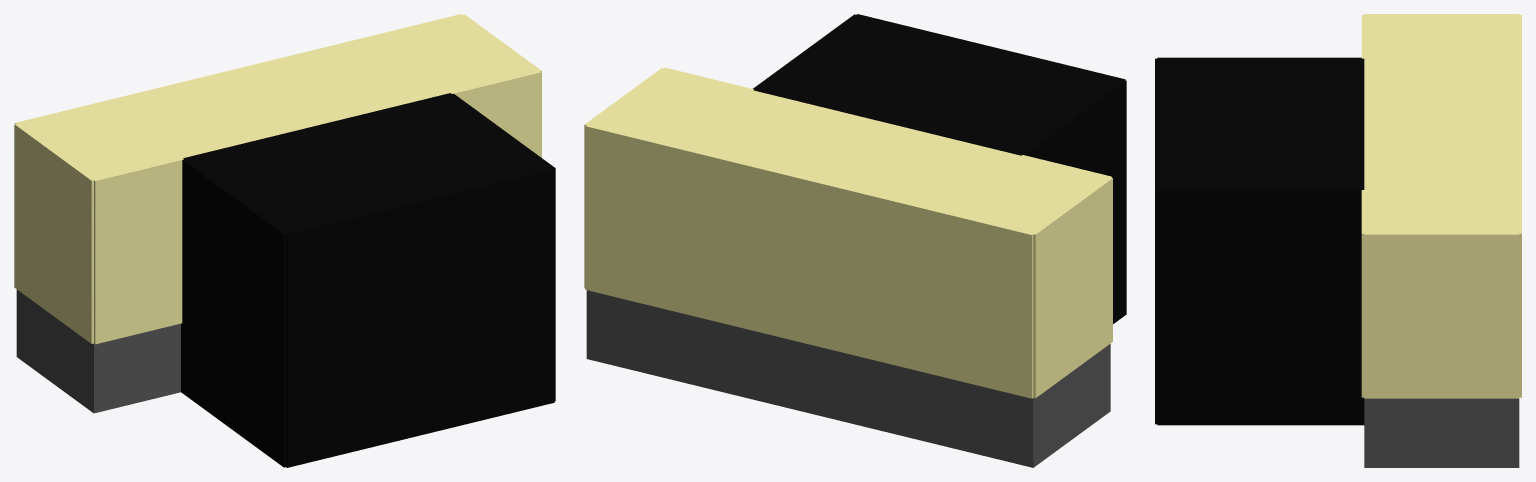
The model's file is fotogoniometro.fbx.
3 views of the same model, side by side, from view 1: azimuth 30°, elevation 25°; view 2: azimuth 150°, elevation 25°; view 3: azimuth 270°, elevation 25° (orthographic).
Parts seen in each view (by area): view 1: ParedTrasera, Techo, Techo2, ParedDerecha, ParedexteriorFrontalDerecha, ParedExteriorDerecha, PisoPasillo, ParedExteriorFrontalIzquierda, ParedExteriorTrasera, ParedIzquierda; view 2: ParedExteriorTrasera, PisoPasillo, Techo, Techo2, ParedExteriorDerecha, ParedDerecha, ParedExteriorIzquierda; view 3: ParedIzquierda, Techo, Techo2, ParedExteriorIzquierda, PisoPasillo, ParedExteriorTrasera, ParedTrasera, ParedExteriorFrontalIzquierda, ParedDerecha, ParedExteriorDerecha.
Part boxes in pixels (<box>): ParedTrasera: <box>286,168,554,467</box>; Techo: <box>18,16,536,179</box>; Techo2: <box>183,93,553,233</box>; ParedDerecha: <box>181,159,285,467</box>; ParedexteriorFrontalDerecha: <box>94,158,183,344</box>; ParedExteriorDerecha: <box>14,124,95,343</box>; PisoPasillo: <box>16,289,180,413</box>; ParedExteriorFrontalIzquierda: <box>451,71,541,157</box>; ParedExteriorTrasera: <box>15,14,463,124</box>; ParedIzquierda: <box>452,93,555,401</box>; ParedExteriorTrasera: <box>585,124,1034,398</box>; PisoPasillo: <box>586,290,1110,467</box>; Techo: <box>589,69,1107,232</box>; Techo2: <box>753,14,1124,155</box>; ParedExteriorDerecha: <box>1032,177,1112,398</box>; ParedDerecha: <box>1023,80,1126,323</box>; ParedExteriorIzquierda: <box>584,68,665,288</box>; ParedIzquierda: <box>1157,190,1364,425</box>; Techo: <box>1364,15,1516,233</box>; Techo2: <box>1157,58,1364,189</box>; ParedExteriorIzquierda: <box>1364,232,1519,398</box>; PisoPasillo: <box>1364,398,1519,467</box>; ParedExteriorTrasera: <box>1516,15,1521,397</box>; ParedTrasera: <box>1155,58,1157,424</box>; ParedExteriorFrontalIzquierda: <box>1361,190,1366,397</box>; ParedDerecha: <box>1157,57,1361,58</box>; ParedExteriorDerecha: <box>1364,14,1519,16</box>.
Bounding box in the file's own units: 2020 × 1002 × 1419.
